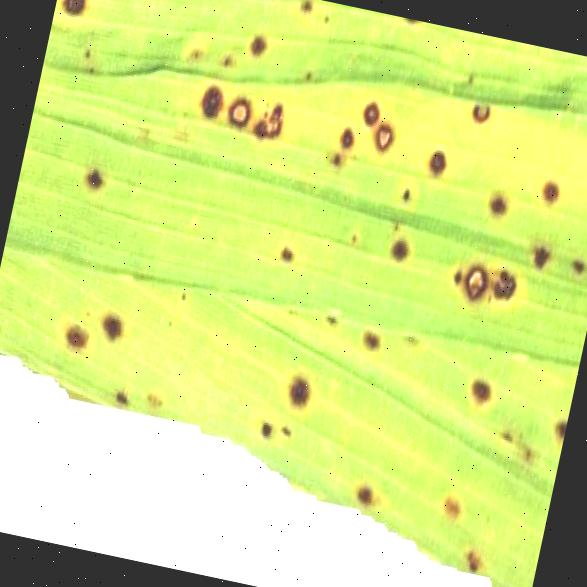Brown_Spot: (450, 223, 549, 315), (446, 332, 512, 419), (376, 198, 432, 294), (108, 366, 178, 426), (330, 458, 397, 520), (51, 283, 103, 362), (428, 462, 478, 544), (458, 59, 509, 139), (411, 116, 460, 198), (250, 84, 294, 165), (318, 116, 366, 187), (186, 64, 233, 134), (93, 270, 136, 342), (350, 296, 391, 368), (364, 106, 402, 183), (77, 139, 115, 208), (262, 228, 312, 280), (451, 513, 491, 577), (478, 172, 522, 225), (222, 73, 260, 134), (535, 153, 571, 216), (238, 22, 274, 79), (542, 394, 571, 461), (279, 366, 321, 412), (53, 0, 99, 36), (356, 78, 386, 128), (252, 414, 280, 461), (564, 230, 587, 276), (290, 0, 317, 39)
